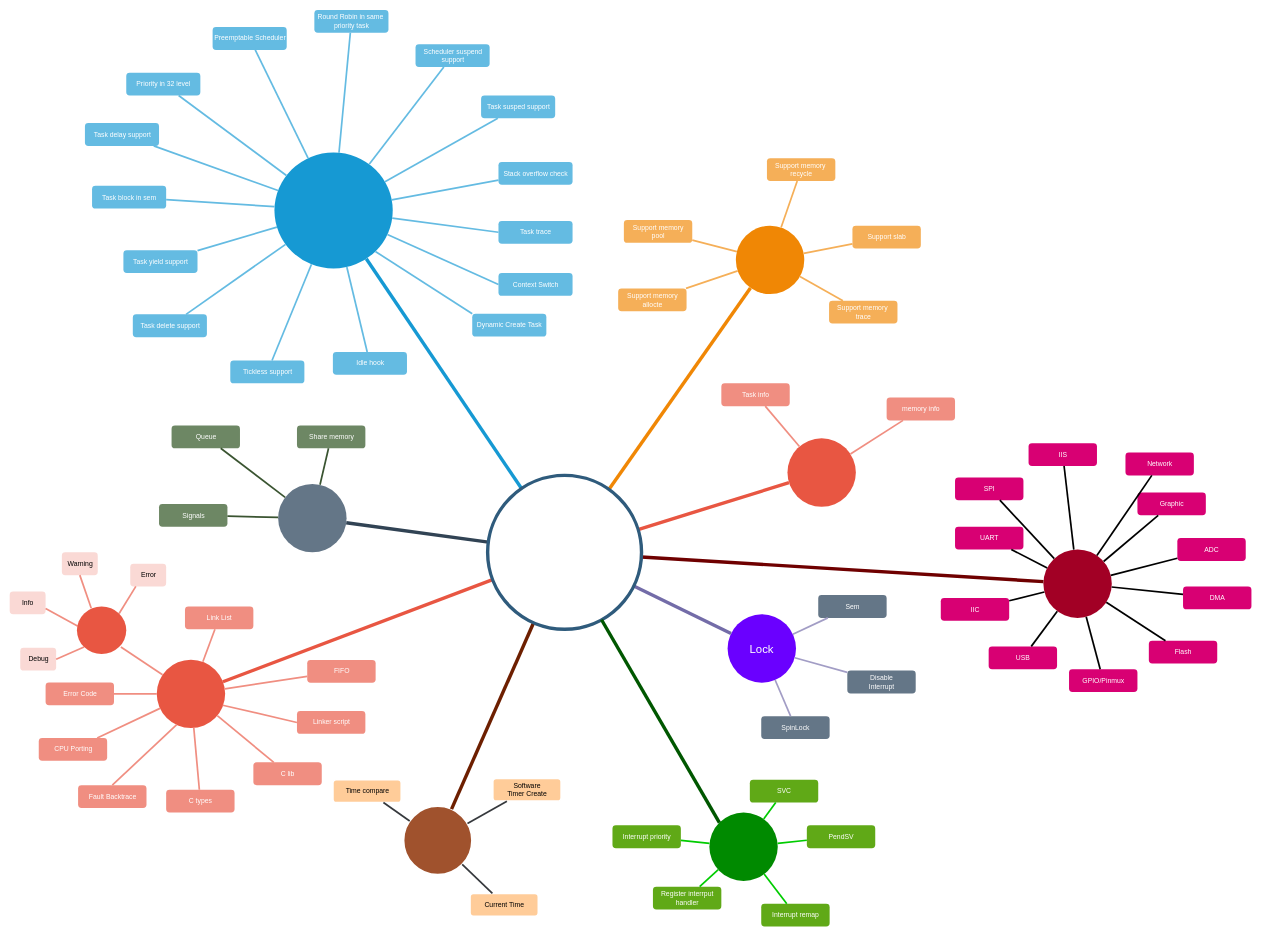
This 1261x936 diagram has some shape labels left out. The box of each missing label's shape, as (x1, y1, x2, y2) in pixels:
Driver Framework: (1043, 549, 1112, 618)
Interrupt: (709, 812, 777, 881)
IPC: (278, 484, 346, 552)
Logger: (77, 606, 126, 654)
Memory Manager: (736, 225, 804, 294)
MxOS: (486, 473, 643, 631)
Shell: (787, 438, 856, 506)
Task: (274, 152, 392, 268)
Time Manager: (402, 805, 473, 875)
Utils: (156, 659, 225, 728)
